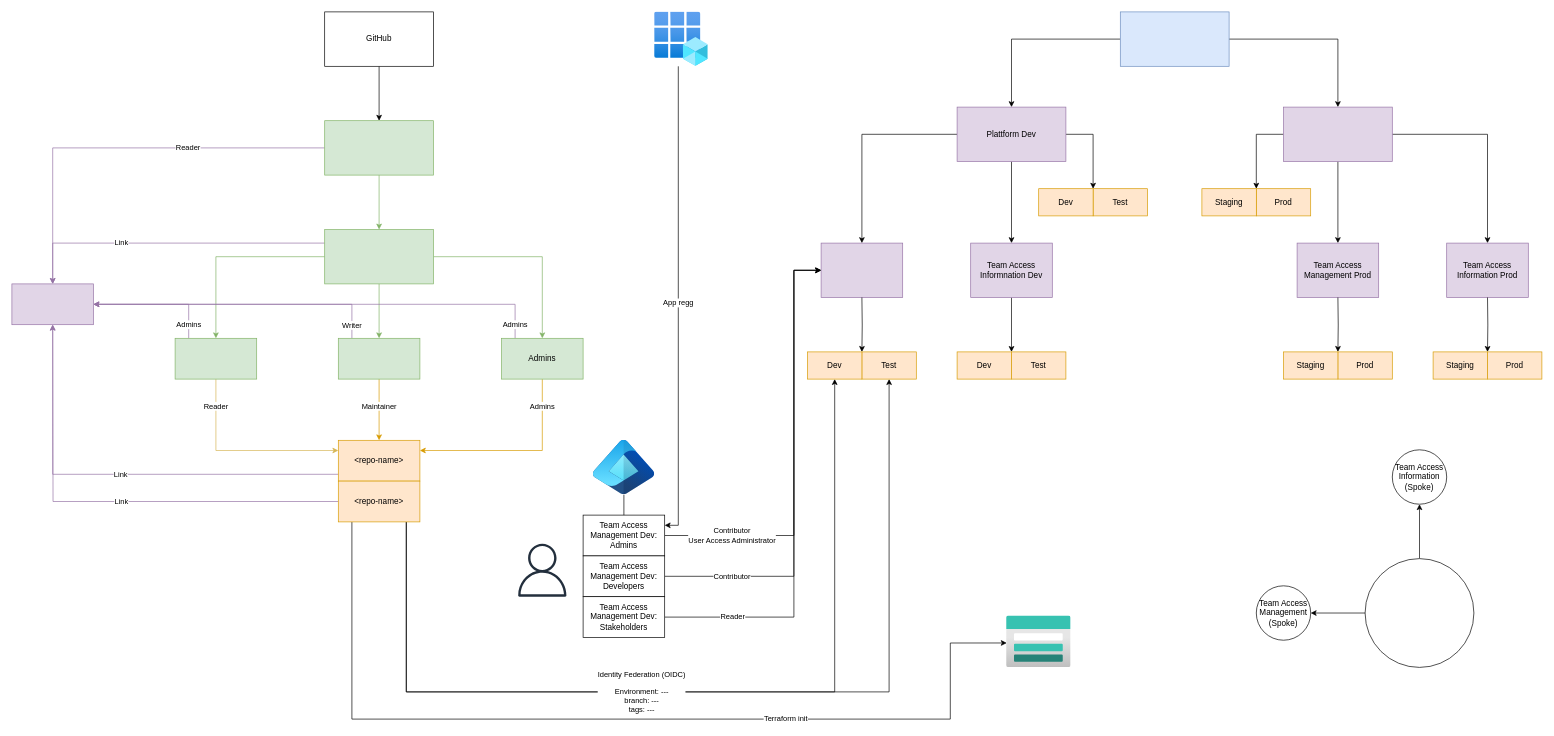
The diagram is 1554 pixels wide and 736 high, and some of its shapes have lost their labels. Here are the shapes that lost their labels. From the top down, the box of each, then its label:
(1120, 11, 1229, 66): Azure
(324, 120, 434, 175): Team Platform
(1283, 106, 1392, 162): Plattform Prod
(324, 229, 434, 284): Team <Name>
(820, 242, 903, 298): Team Access Management Dev
(11, 283, 94, 325): Project
(174, 338, 257, 379): Stakeholders
(338, 338, 420, 379): Developers
(593, 440, 654, 494): Entra ai-dev.no
(515, 543, 568, 596): ai-dev.no
(1364, 558, 1474, 667): Plattform (Hub)
(1006, 615, 1071, 667): Terraform State
